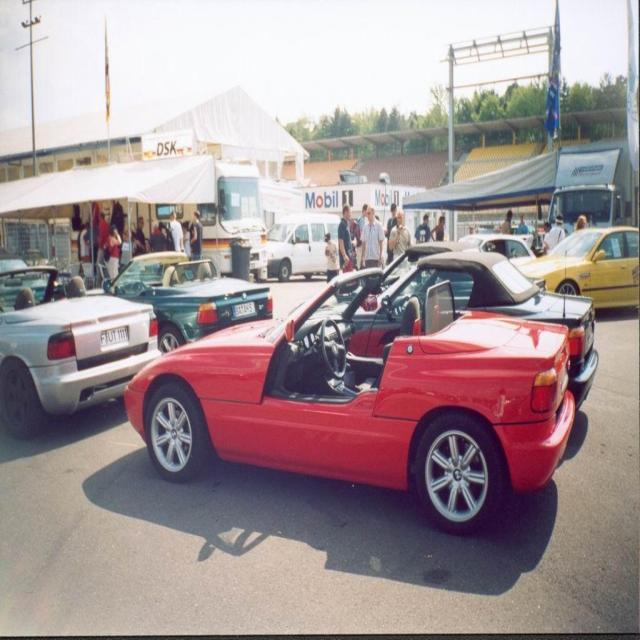car: (120, 262, 579, 532)
